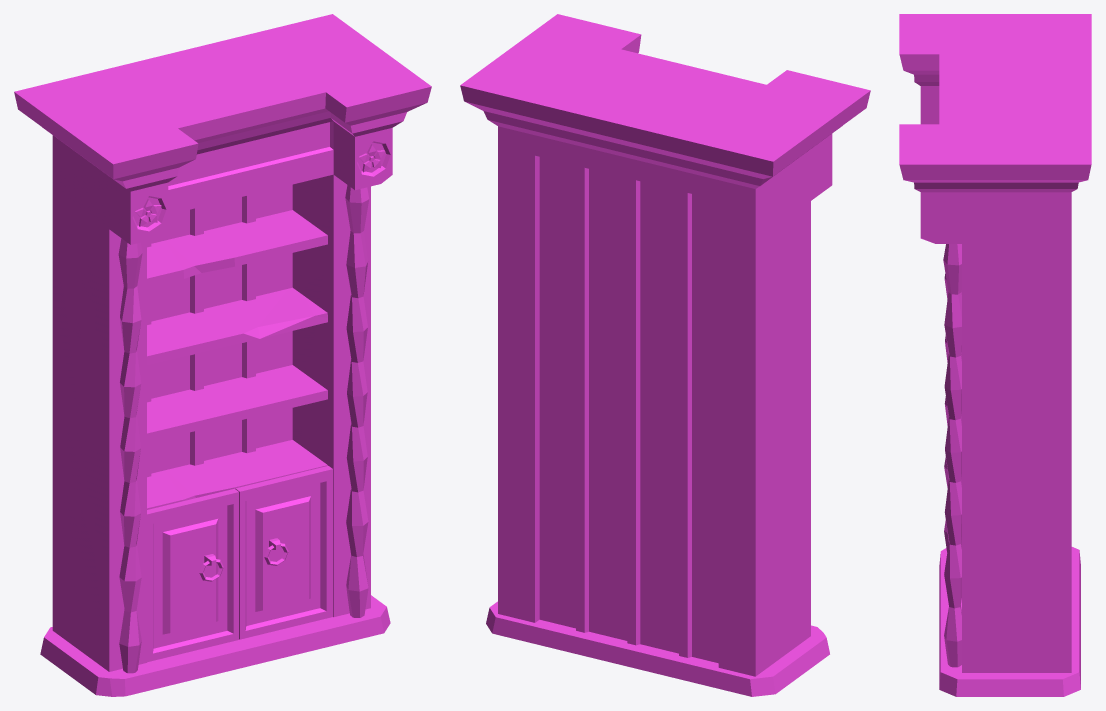
Rendered from SM_Shelf_Standing_Tall_B_Fantasy.fbx.
The picture shows the model from 3 angles, left to right: view 1: azimuth 30°, elevation 25°; view 2: azimuth 150°, elevation 25°; view 3: azimuth 270°, elevation 25°; orthographic projection. The views are drawn at different scales.
Parts seen in each view (by area): view 1: SM_Shelf_Standing_Tall_B_Fantasy_Base, SM_Shelf_Standing_Tall_B_Fantasy_Door_R, SM_Shelf_Standing_Tall_B_Fantasy_Door_L; view 2: SM_Shelf_Standing_Tall_B_Fantasy_Base; view 3: SM_Shelf_Standing_Tall_B_Fantasy_Base.
Part boxes in pixels (bbox=[...]): SM_Shelf_Standing_Tall_B_Fantasy_Base: bbox=[14, 14, 431, 696]; SM_Shelf_Standing_Tall_B_Fantasy_Door_R: bbox=[235, 466, 332, 639]; SM_Shelf_Standing_Tall_B_Fantasy_Door_L: bbox=[147, 488, 238, 662]; SM_Shelf_Standing_Tall_B_Fantasy_Base: bbox=[460, 14, 870, 696]; SM_Shelf_Standing_Tall_B_Fantasy_Base: bbox=[899, 14, 1091, 696].
Size of the model in its own units: 1.5 by 2.5 by 0.8086.
